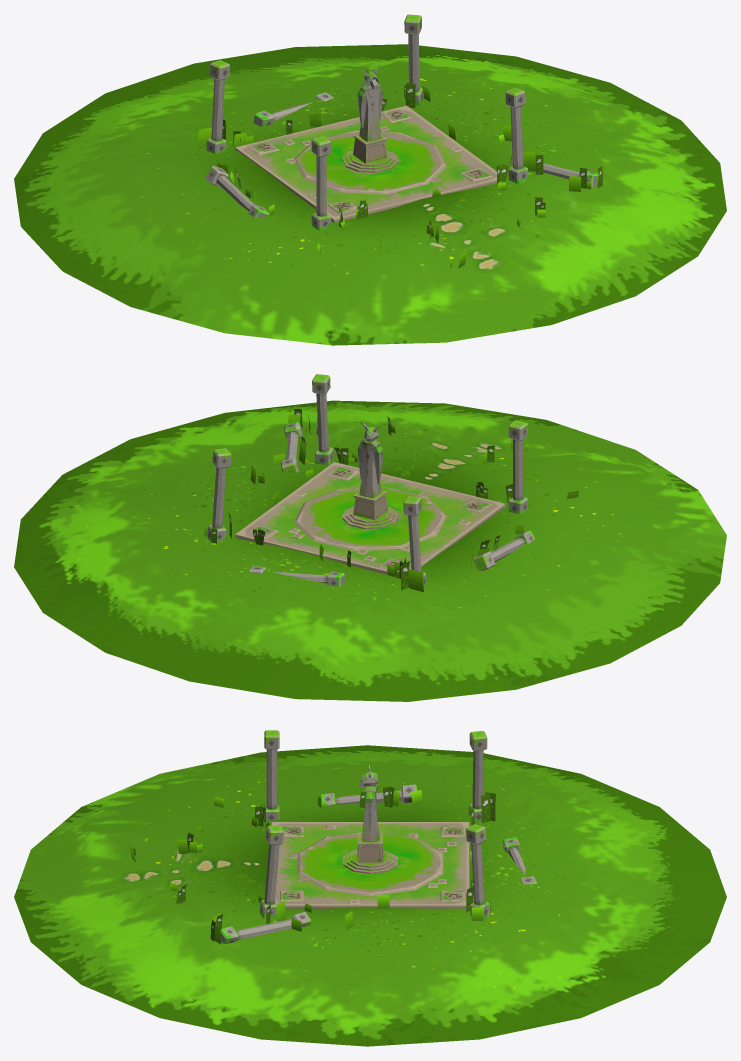
File: Elf_Lord_Temple_-_Low_poly_handpainted_stylized.glb
3 views of the same model, one above another, from view 1: azimuth 30°, elevation 25°; view 2: azimuth 150°, elevation 25°; view 3: azimuth 270°, elevation 25° (orthographic).
Visible parts, largest first — view 1: Groundlush1_Groundlush_0, Cubicplatform_Cubic_0, Circularbase_Circular_0, StatueDeity2_StatueDeity_0, polySurface70_Pillar2_0, polySurface64_Pillar2_0, polySurface73_Pillar2_0, polySurface67_Pillar2_0; view 2: Groundlush1_Groundlush_0, Cubicplatform_Cubic_0, Circularbase_Circular_0, StatueDeity2_StatueDeity_0, polySurface73_Pillar2_0, polySurface67_Pillar2_0, polySurface70_Pillar2_0, polySurface64_Pillar2_0; view 3: Groundlush1_Groundlush_0, Cubicplatform_Cubic_0, Circularbase_Circular_0, StatueDeity2_StatueDeity_0, polySurface73_Pillar2_0, polySurface67_Pillar2_0, polySurface70_Pillar2_0, polySurface64_Pillar2_0, polySurface79_Pillar2_0.
Part boxes in pixels (x1,y1,x2,y2): Groundlush1_Groundlush_0: (14,44,726,345); Cubicplatform_Cubic_0: (235,105,496,222); Circularbase_Circular_0: (294,130,446,194); StatueDeity2_StatueDeity_0: (353,65,387,163); polySurface70_Pillar2_0: (510,106,523,169); polySurface64_Pillar2_0: (211,78,224,141); polySurface73_Pillar2_0: (316,155,326,216); polySurface67_Pillar2_0: (408,34,419,92); Groundlush1_Groundlush_0: (14,400,726,701); Cubicplatform_Cubic_0: (235,462,505,574); Circularbase_Circular_0: (293,487,446,550); StatueDeity2_StatueDeity_0: (353,421,387,520); polySurface73_Pillar2_0: (513,439,523,500); polySurface67_Pillar2_0: (212,467,226,528); polySurface70_Pillar2_0: (316,393,328,452); polySurface64_Pillar2_0: (408,515,421,572); Groundlush1_Groundlush_0: (14,745,726,1046); Cubicplatform_Cubic_0: (271,822,469,908); Circularbase_Circular_0: (297,832,443,896); StatueDeity2_StatueDeity_0: (357,764,383,863); polySurface73_Pillar2_0: (266,749,277,809); polySurface67_Pillar2_0: (471,842,484,905); polySurface70_Pillar2_0: (264,844,279,904); polySurface64_Pillar2_0: (472,750,483,809); polySurface79_Pillar2_0: (236,919,291,939).
Size of the model in its own units: 0.4667 by 0.0921 by 0.4667.
7 materials, 7 textured.
